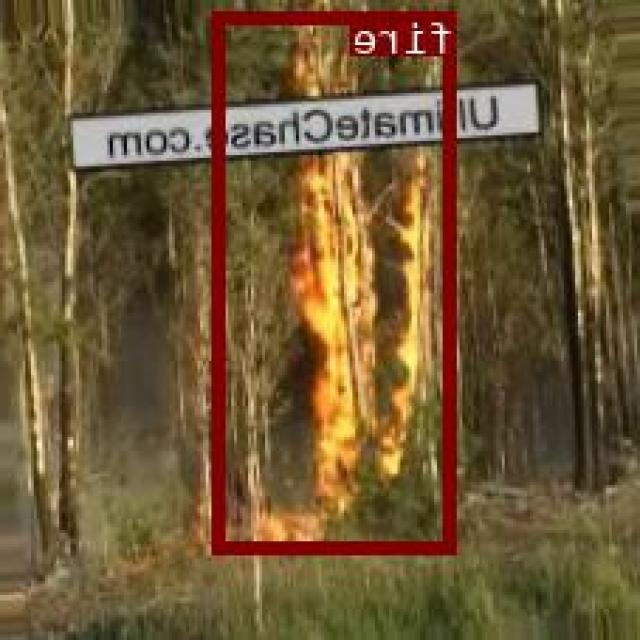fire: (216, 10, 459, 552)
